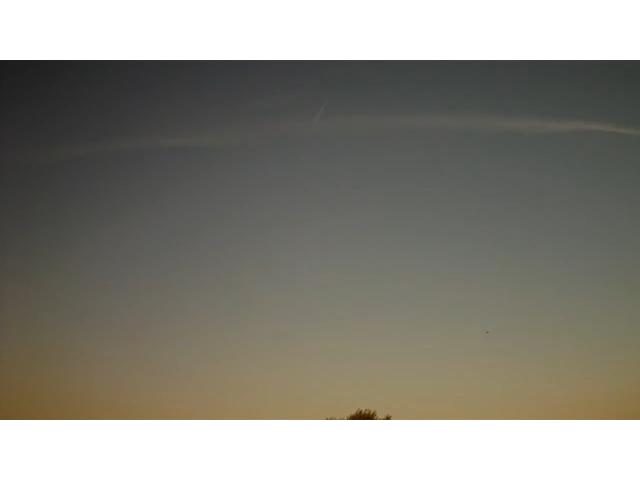Anti-Drone: (480, 328, 496, 340)
